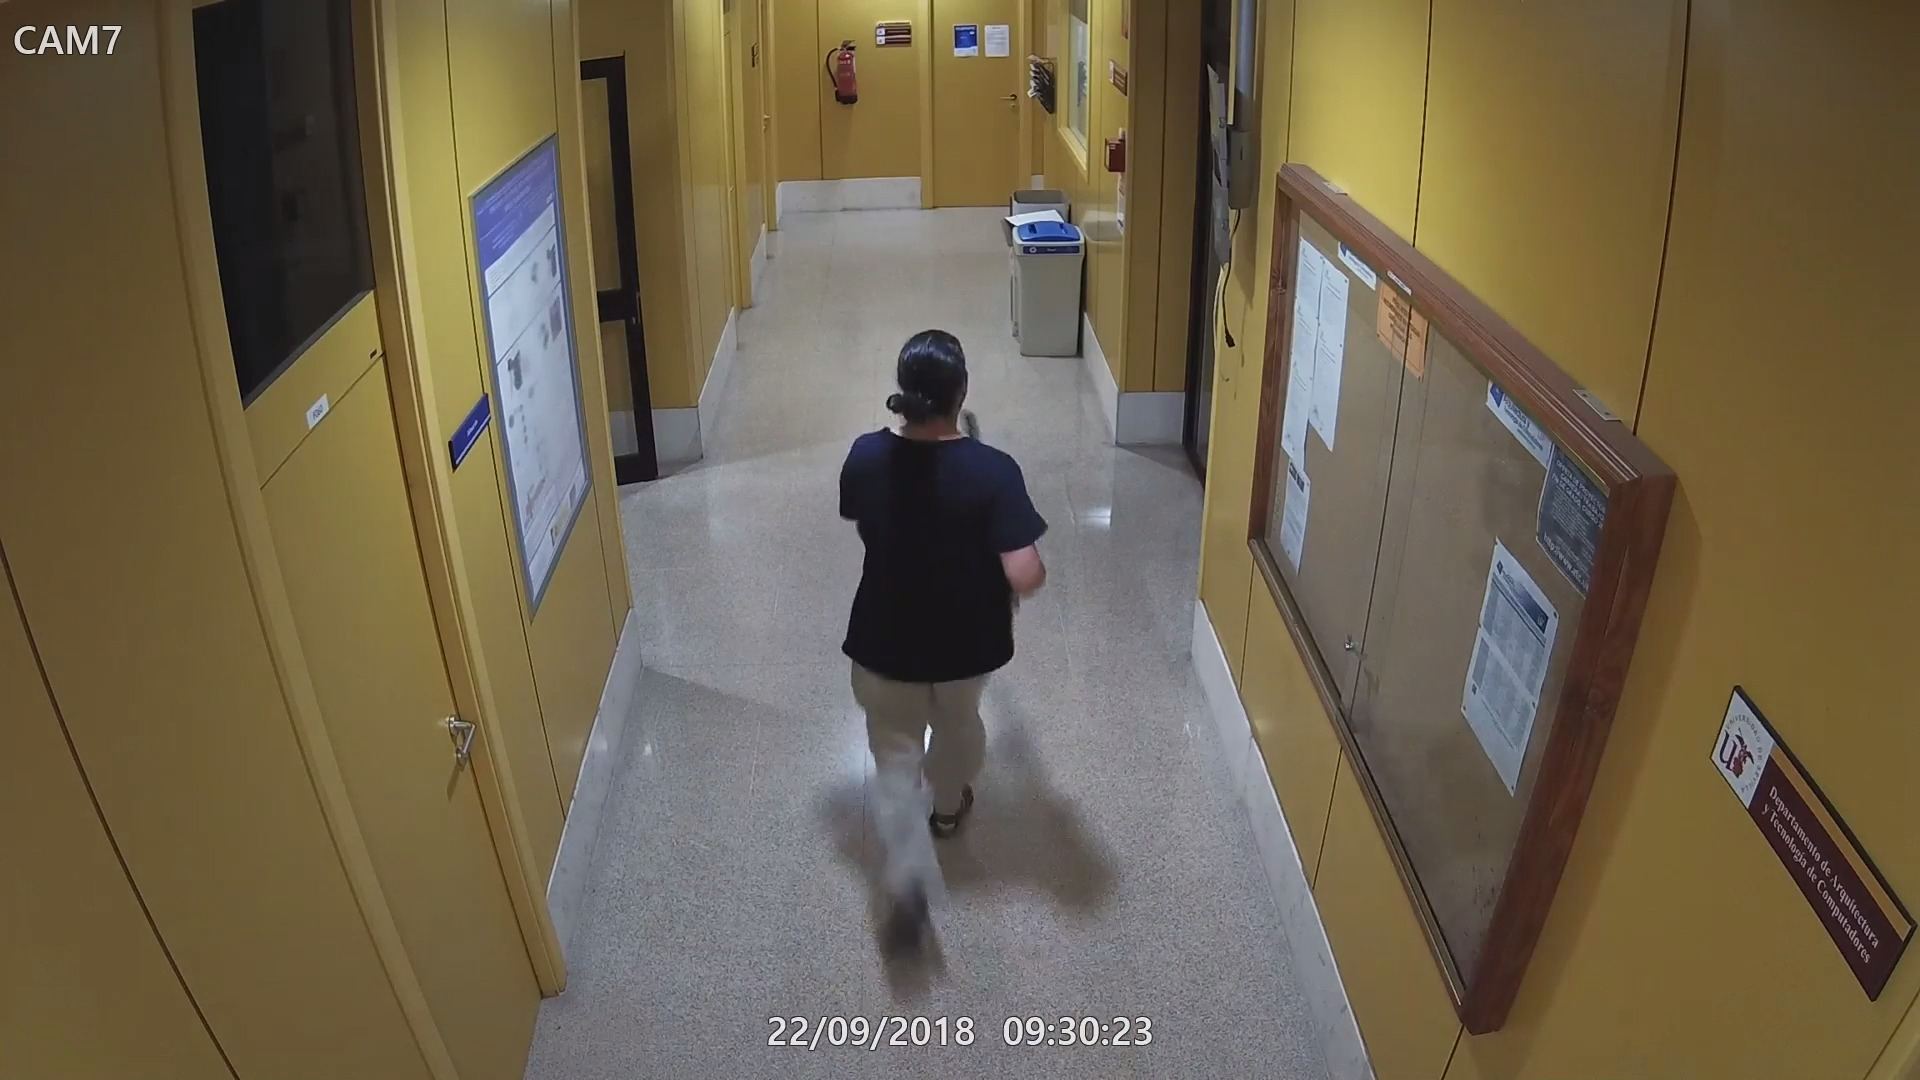Short_rifle: (963, 404, 981, 444)
